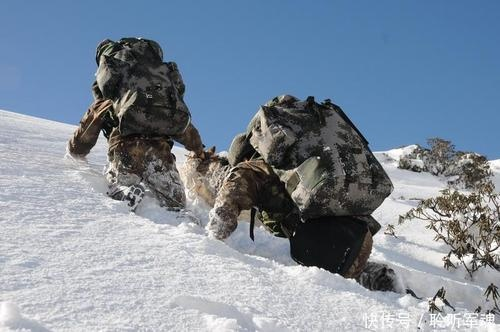falling: (59, 31, 213, 223)
